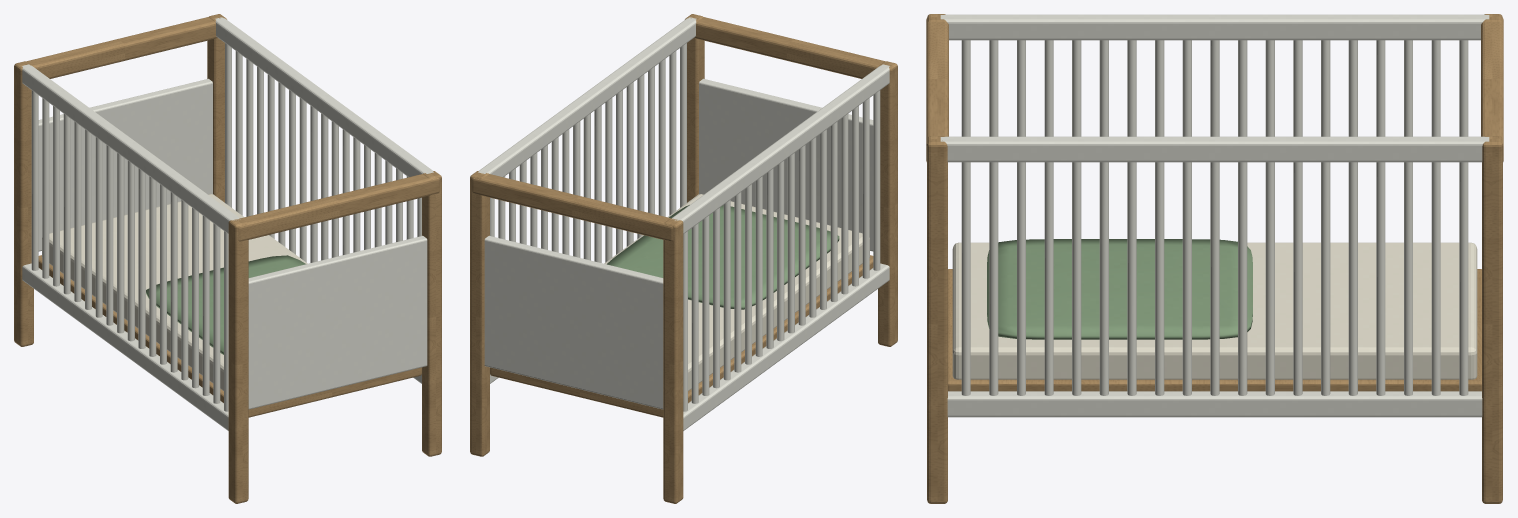
Rendered from crib.glb.
3 views of the same model, side by side, from view 1: azimuth 30°, elevation 25°; view 2: azimuth 150°, elevation 25°; view 3: azimuth 270°, elevation 25° (orthographic). The views are drawn at different scales.
Visible parts, largest first — view 1: Cot end panel, Cot end panel.001, Cot mattress, Cot corner post, Cot long rail.001, Cot long rail.003, Cot corner post.001, Cot end top rail, Cot corner post.002, Cot long rail, Cot end top rail.001, Original folded cot blanket (+36 smaller); view 2: Cot end panel.001, Cot end panel, Original folded cot blanket, Cot corner post.001, Cot long rail.001, Cot long rail.003, Cot corner post, Cot end top rail.001, Cot corner post.003, Cot long rail, Cot end top rail, Cot mattress (+36 smaller); view 3: Cot mattress, Original folded cot blanket, Cot long rail.003, Cot long rail.001, Cot long rail.002, Cot corner post.002, Cot corner post.003, Cot mattress support, Cot end top rail, Cot end top rail.001, Rounded cot spindle.019, Rounded cot spindle.022 (+36 smaller).
Part boxes in pixels (x1,y1,x2,y2): Cot end panel: (248,235,427,409); Cot end panel.001: (38,78,212,251); Cot mattress: (42,194,307,390); Cot corner post: (228,218,248,503); Cot long rail.001: (22,64,240,233); Cot long rail.003: (215,17,433,177); Cot corner post.001: (14,61,33,346); Cot end top rail: (238,174,439,241); Cot corner post.002: (422,171,441,456); Cot long rail: (22,263,228,430); Cot end top rail.001: (27,17,217,78); Original folded cot blanket: (146,255,305,354); Cot end panel.001: (484,235,663,409); Cot end panel: (699,78,873,251); Original folded cot blanket: (607,205,839,309); Cot corner post.001: (663,218,683,503); Cot long rail.001: (672,64,889,233); Cot long rail.003: (478,17,696,177); Cot corner post: (878,61,897,346); Cot end top rail.001: (472,174,673,241); Cot corner post.003: (470,171,489,456); Cot long rail: (683,263,889,430); Cot end top rail: (694,17,884,78); Cot mattress: (604,194,869,390); Cot mattress: (952,242,1477,379); Original folded cot blanket: (987,239,1252,339); Cot long rail.003: (940,136,1489,162); Cot long rail.001: (940,14,1489,40); Cot long rail.002: (947,391,1482,417); Cot corner post.002: (927,136,947,503); Cot corner post.003: (1482,136,1502,503); Cot mattress support: (948,269,1481,391); Cot end top rail: (926,17,948,161); Cot end top rail.001: (1481,17,1503,161); Rounded cot spindle.019: (961,162,970,395); Rounded cot spindle.022: (1044,162,1053,395).
Size of the model in its own units: 0.815 by 1.05 by 1.52.
4 materials, 4 textured.
